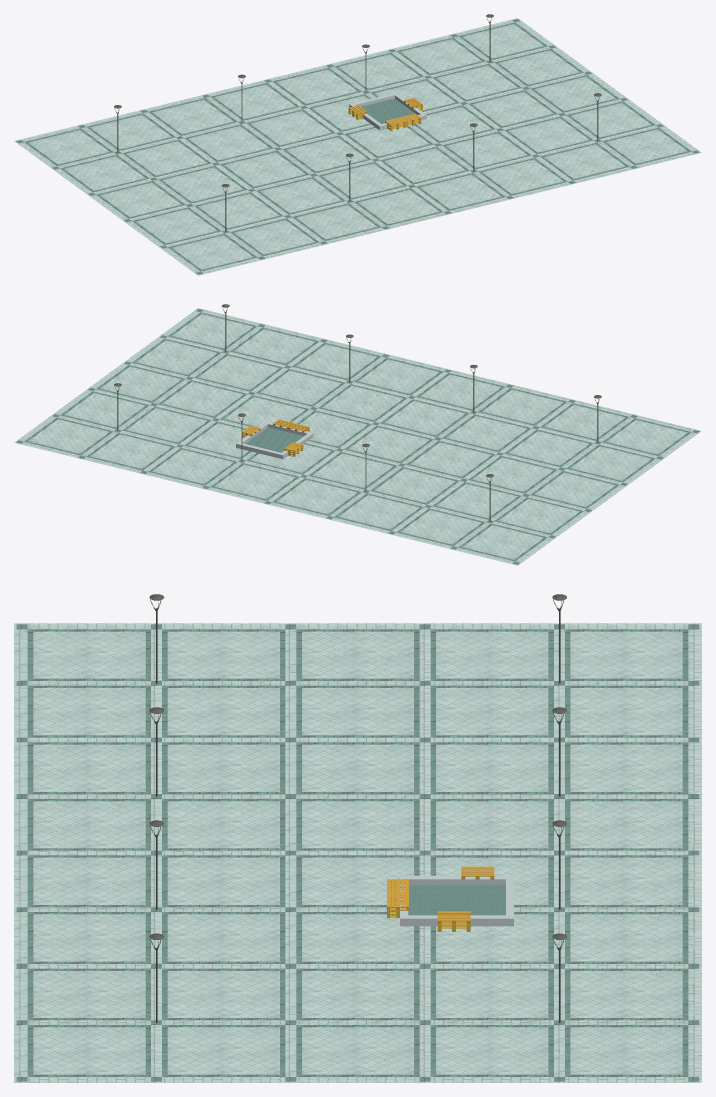
3 renders of one model, top to bottom at view 1: azimuth 30°, elevation 25°; view 2: azimuth 150°, elevation 25°; view 3: azimuth 270°, elevation 25°, orthographic. The views are drawn at different scales.
Visible parts, largest first — view 1: square 1 component (×40), object 55, object 14, object 13; view 2: square 1 component (×40), object 55, object 13, object 14; view 3: square 1 component (×40), object 55, object 14, object 13.
Boxes of the visible parts, left/top/right/bottom form: square 1 component (×40): left=16, top=22, right=691, bottom=271; object 55: left=14, top=18, right=701, bottom=275; object 14: left=361, top=98, right=414, bottom=123; object 13: left=349, top=93, right=426, bottom=130; square 1 component (×40): left=24, top=312, right=691, bottom=564; object 55: left=14, top=308, right=701, bottom=565; object 13: left=236, top=421, right=313, bottom=459; object 14: left=245, top=427, right=303, bottom=452; square 1 component (×40): left=27, top=624, right=699, bottom=1076; object 55: left=14, top=623, right=701, bottom=1082; object 14: left=408, top=885, right=505, bottom=915; object 13: left=400, top=875, right=513, bottom=926.
Bounding box in the file's own units: 1.8 × 0.1598 × 1.14.
10 materials, 4 textured.
